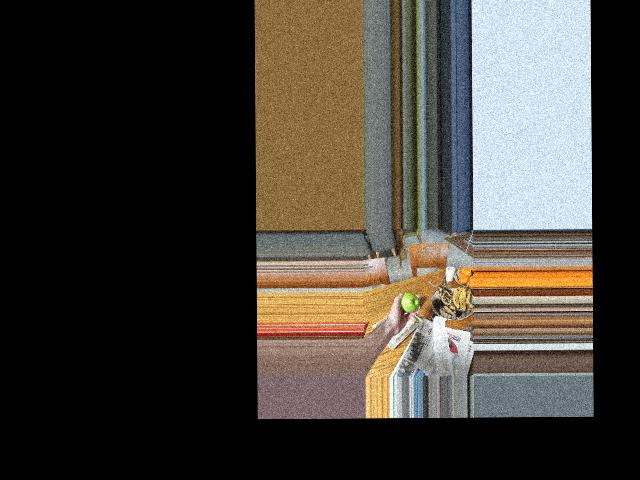apple: (398, 291, 418, 314)
